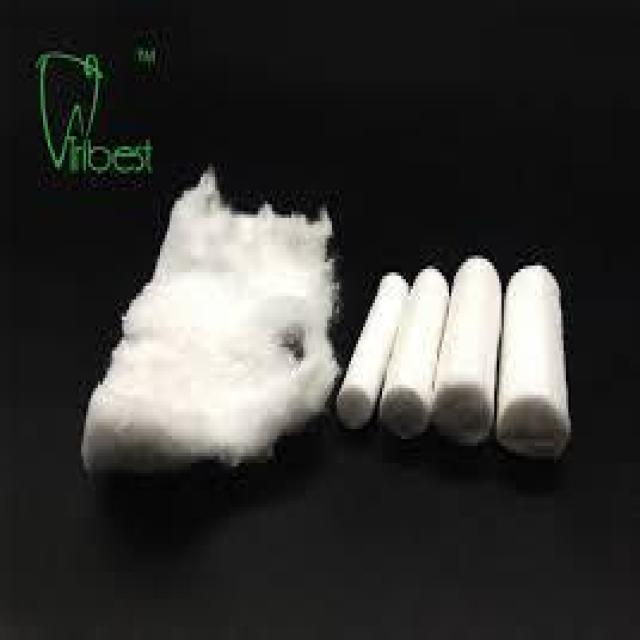B3: (489, 245, 578, 466), (377, 245, 454, 446), (432, 245, 504, 453), (329, 259, 408, 422)
